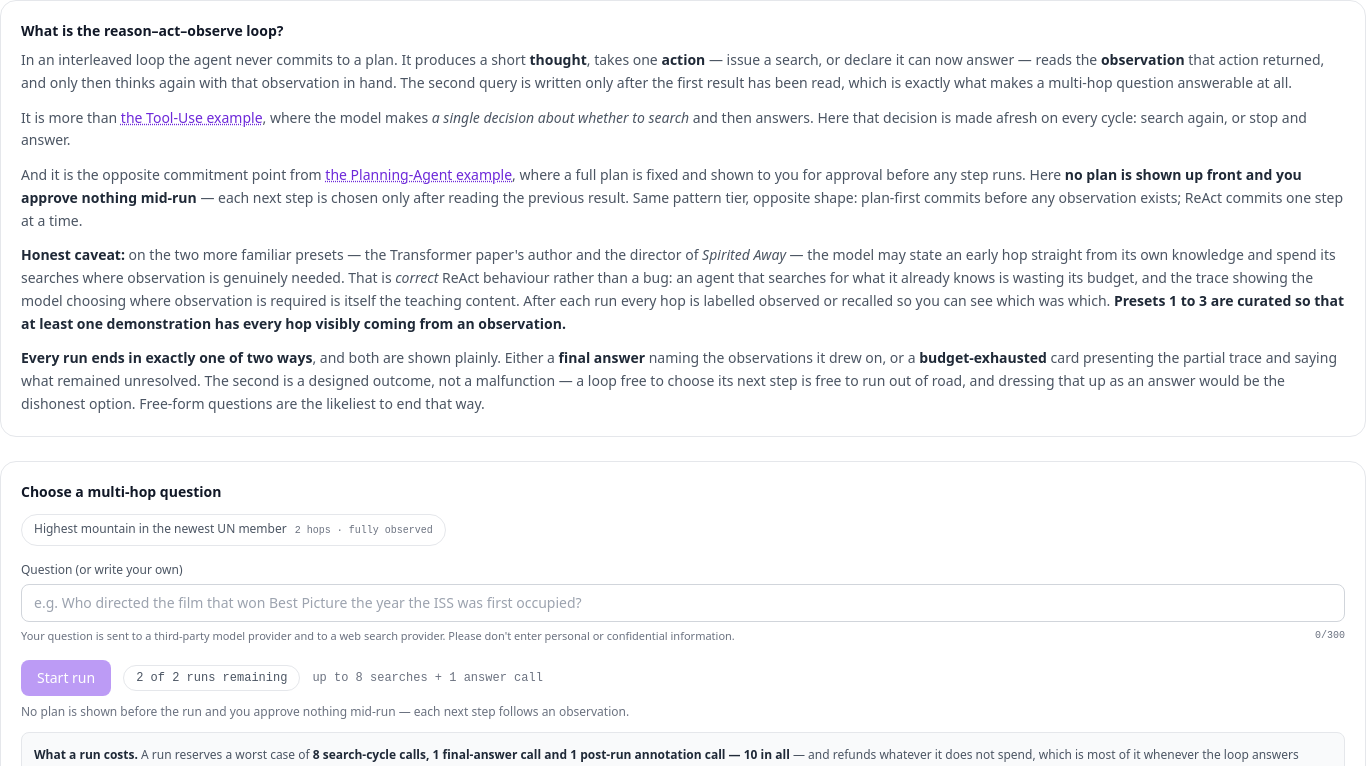
Test case: the advisory is a hint, never a gate › renders an advisory for multi_hop_live
The width and height of the screenshot is (1366, 766).
Type "How old is the current CEO of the company that makes the Switch?" into the field labelled "Question (or write your own)" at (683, 602), box top-left (21, 584), bottom-right (1345, 622)
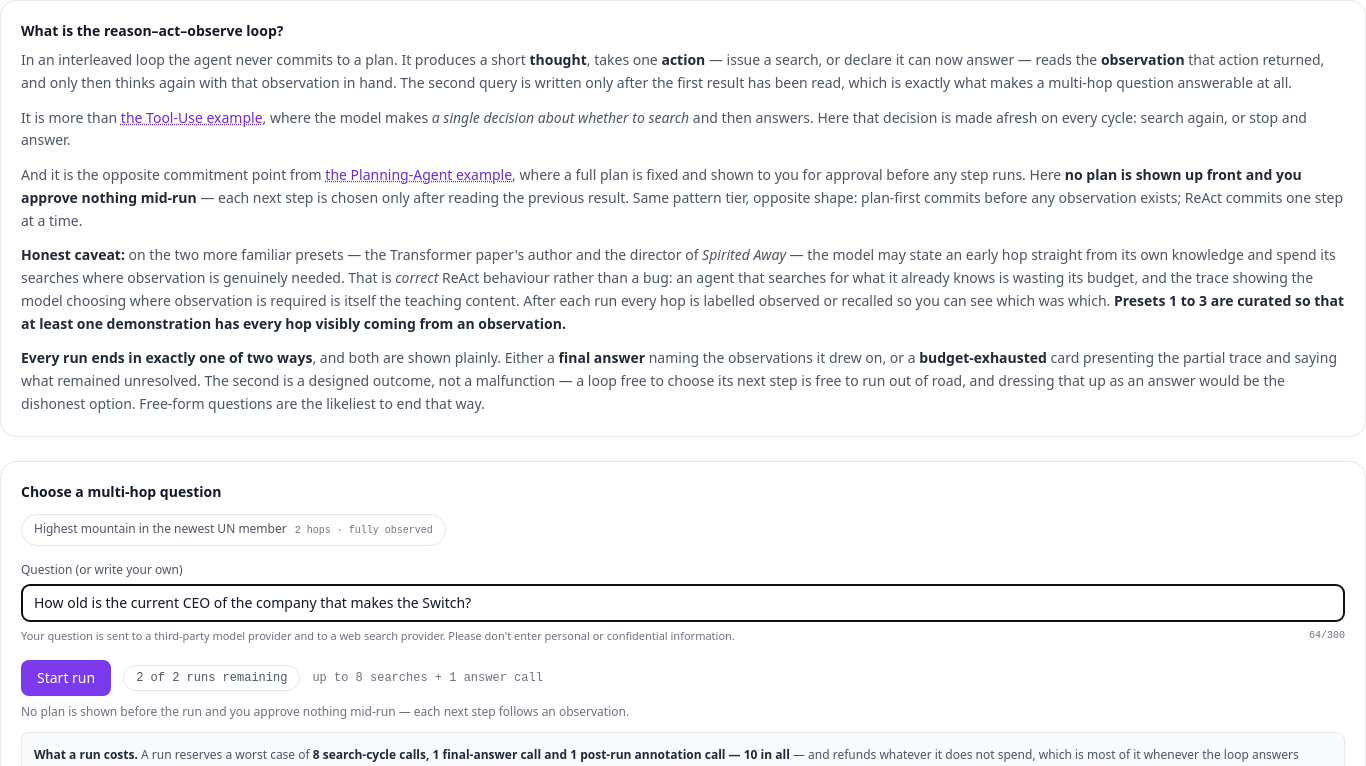
Press Tab
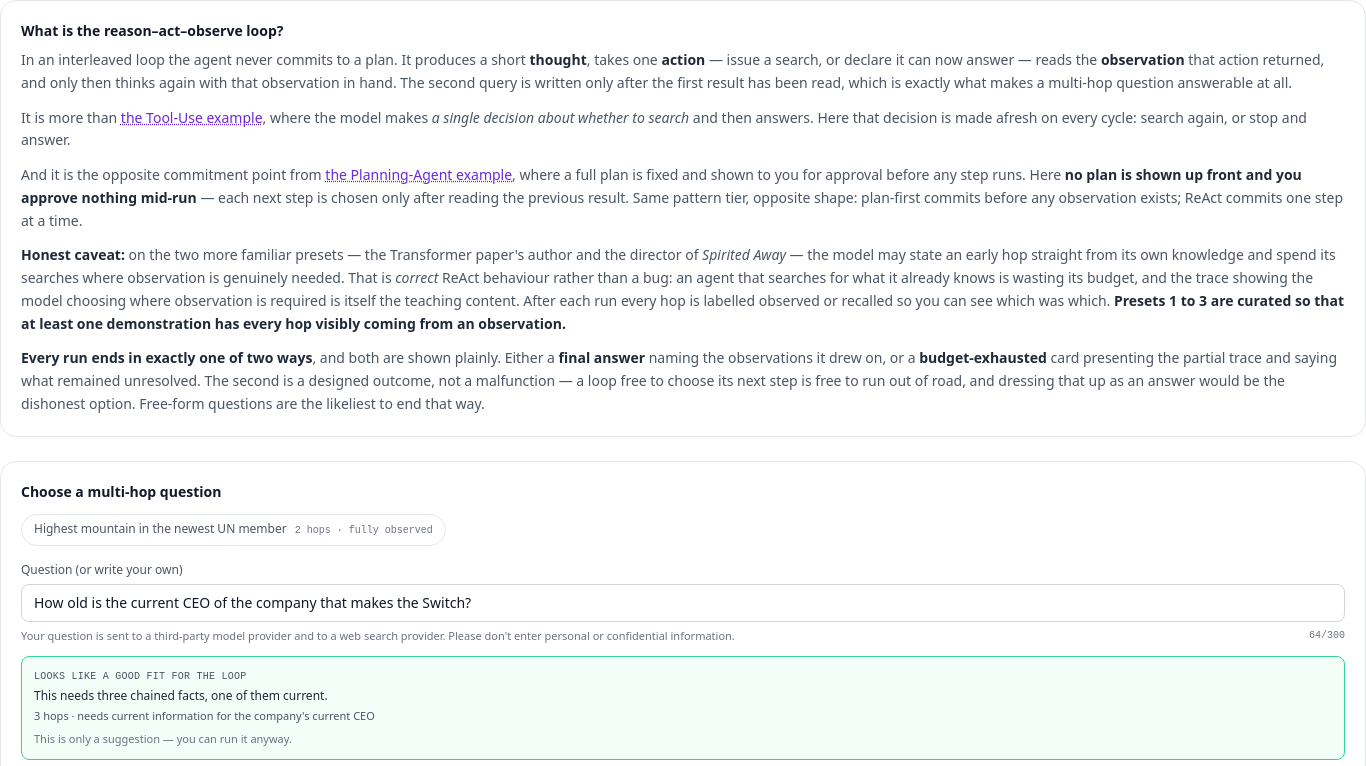
Expected: the element with test id "react-suitability-hint" is shown, top-left (21, 656), bottom-right (1345, 760)
